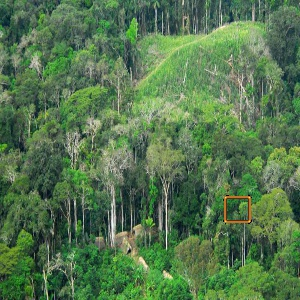square: (222, 195, 252, 224)
